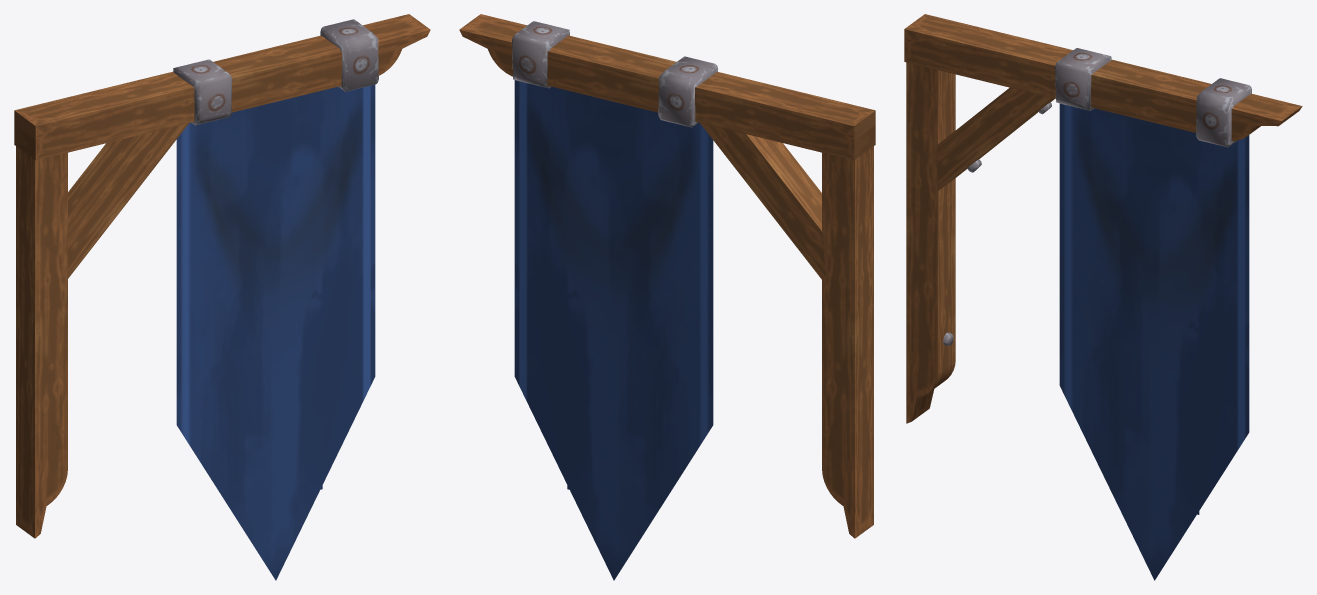
File: banner_2.glb
3 views of the same model, side by side, from view 1: azimuth 30°, elevation 25°; view 2: azimuth 150°, elevation 25°; view 3: azimuth 330°, elevation 25° (orthographic). The views are drawn at different scales.
Visible parts, largest first — view 1: Banner_2; view 2: Banner_2; view 3: Banner_2.
Boxes of the visible parts, box(x1,y1,x2,y2) form: Banner_2: box(14, 14, 430, 580); Banner_2: box(459, 14, 875, 580); Banner_2: box(904, 14, 1302, 580).
Bounding box in the file's own units: 1.61 × 2.08 × 0.1906.
3 materials, 3 textured.
